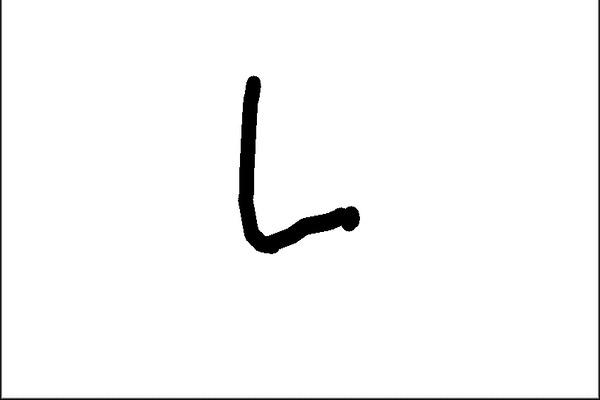L: (228, 68, 368, 260)
